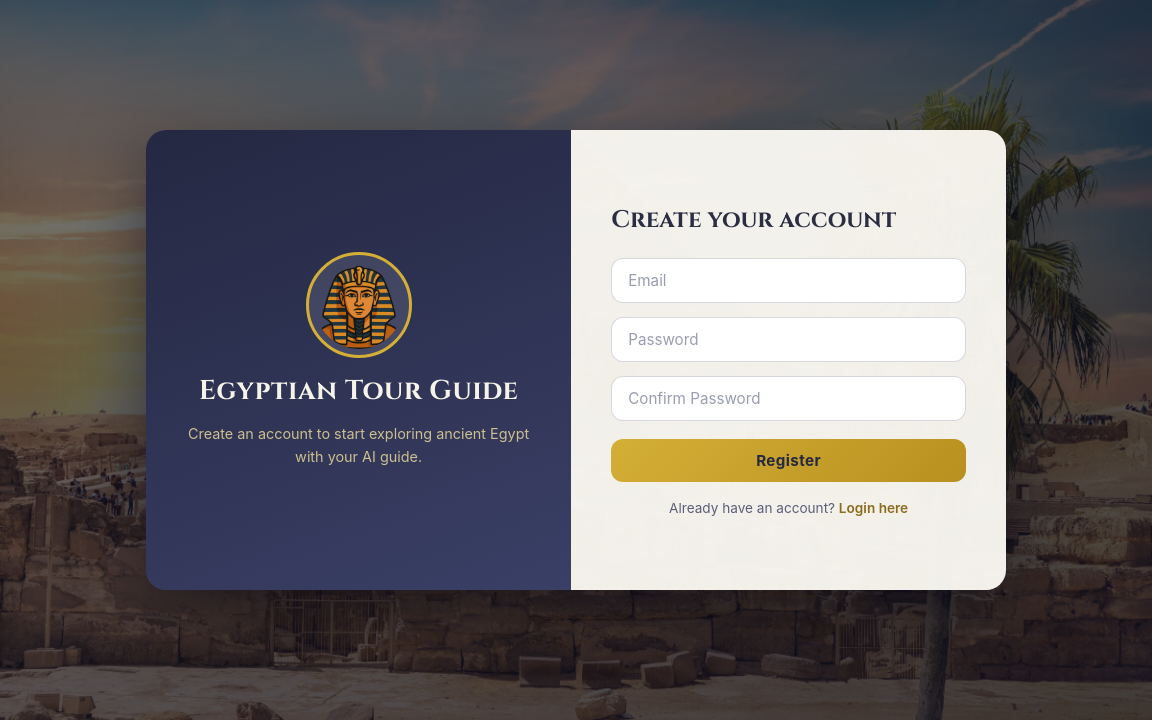
Test: Register › rejects mismatched passwords and flags the confirm field invalid
Step 1. Type "new@example.com" into the field with placeholder "Email" → (789, 280), box [611,258,966,303]
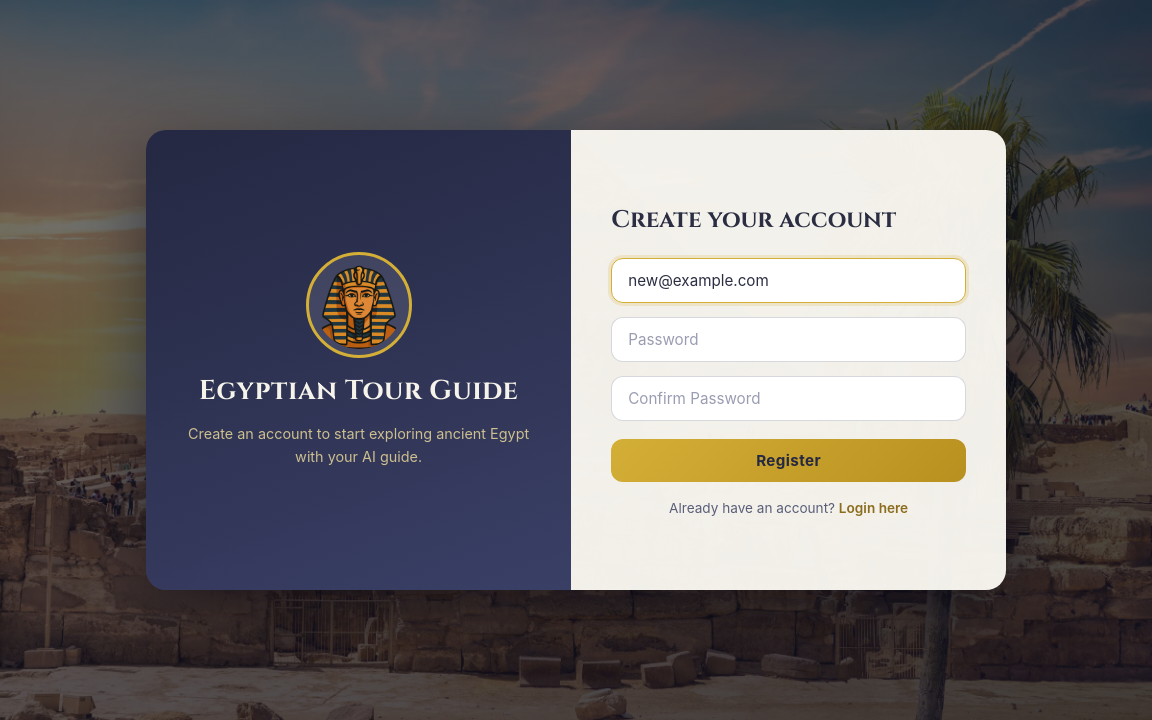
Step 2. Type "password123" into the password field with placeholder "Password" → (789, 340), box [611,317,966,362]
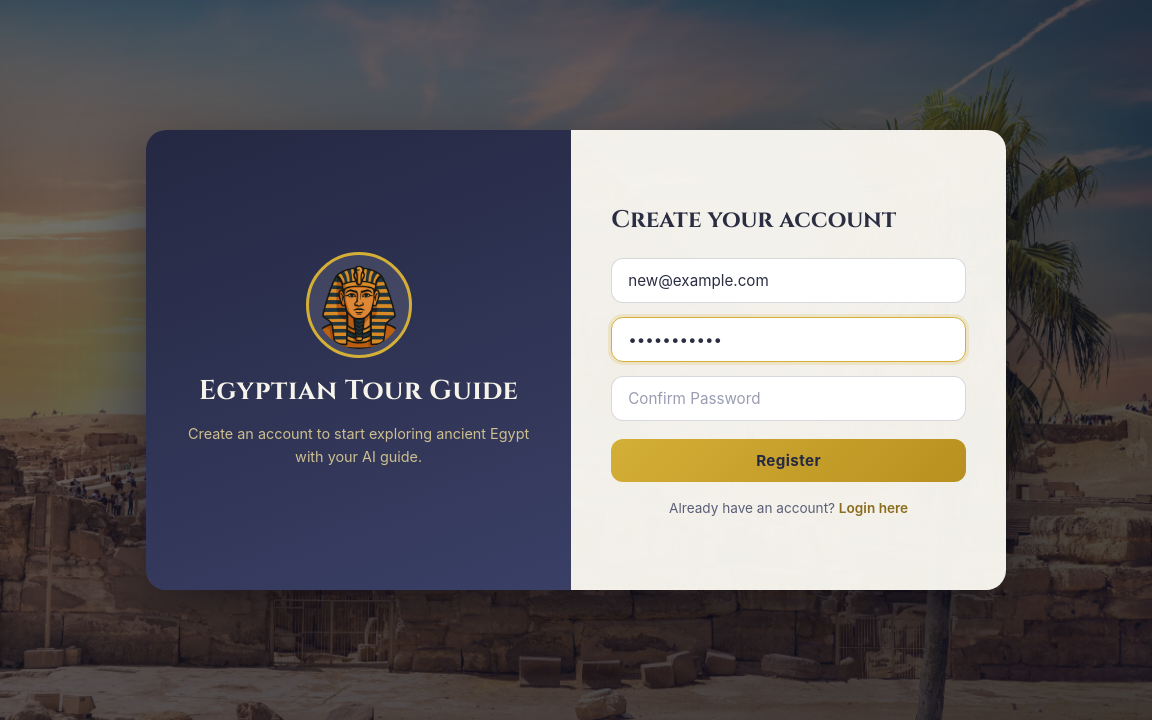
Step 3. Type "different456" into the password field with placeholder "Confirm Password" → (789, 398), box [611,376,966,421]
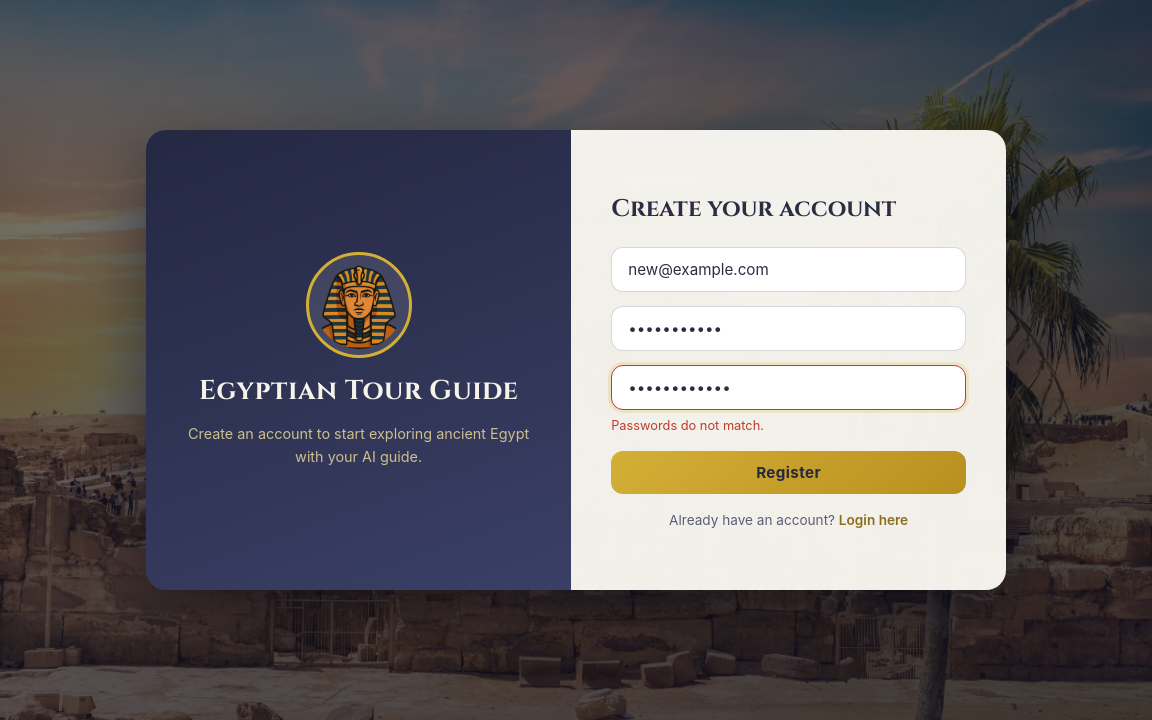
Step 4. Submit the form with class "signupForm", box [571,130,1006,590]
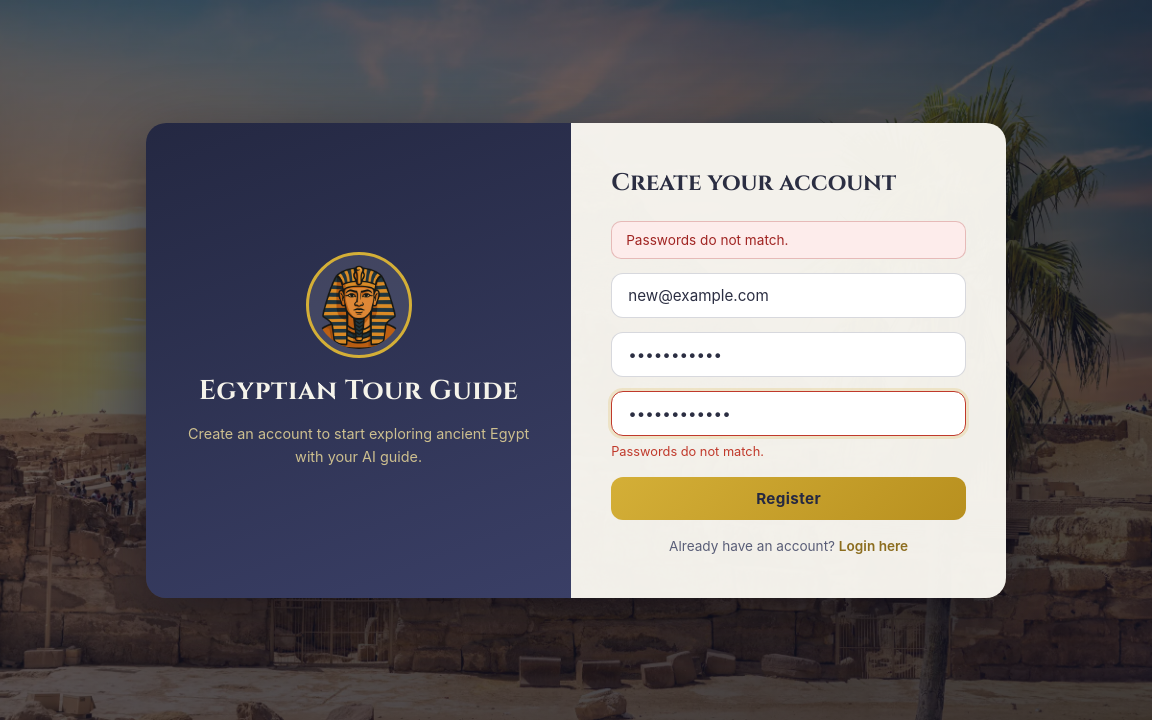
expect the message reads "Passwords do not match.": met, box [626,232,788,248]
